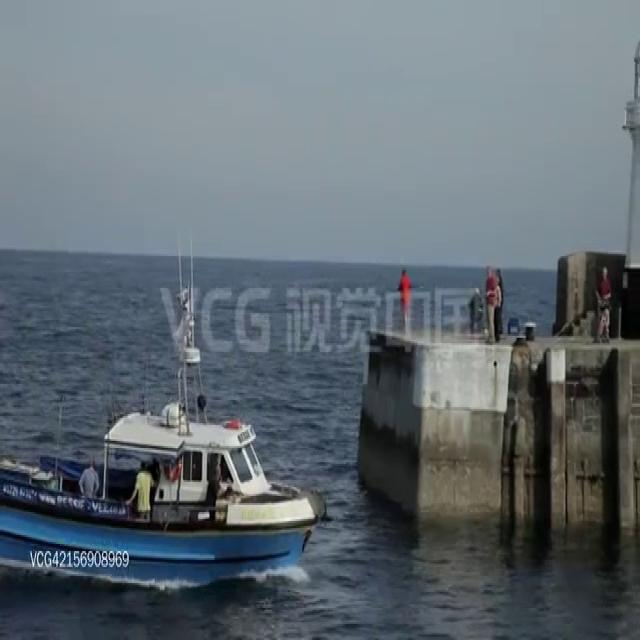houseboat: (0, 300, 317, 587)
